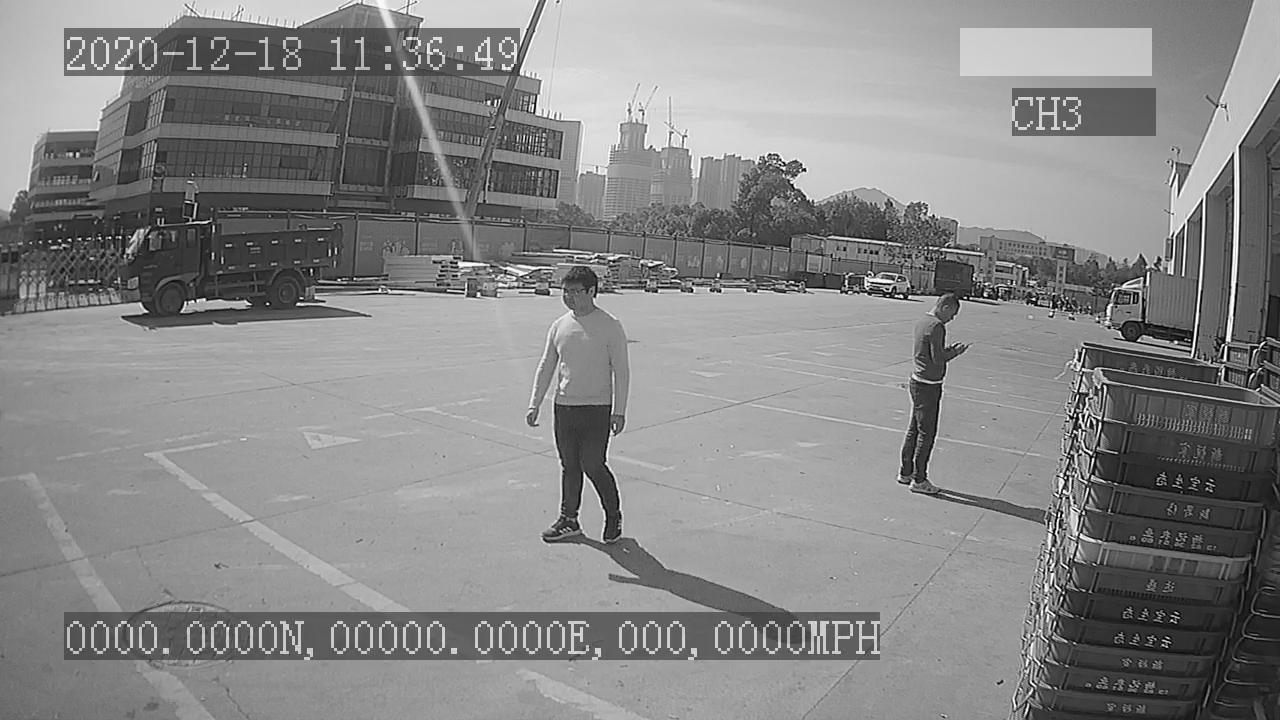person: (524, 264, 642, 551), (894, 288, 976, 497)
